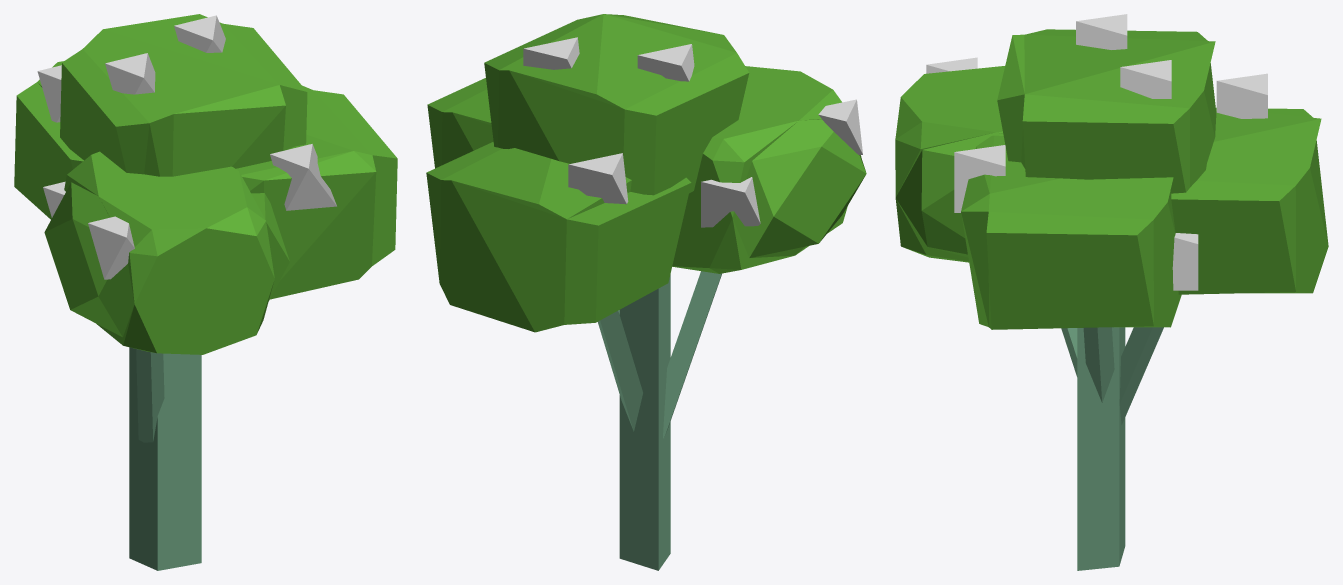
File: クチナシ.fbx
3 renders of one model, left to right at view 1: azimuth 30°, elevation 25°; view 2: azimuth 150°, elevation 25°; view 3: azimuth 270°, elevation 25°, orthographic. The views are drawn at different scales.
Visible parts, largest first — view 1: 立方体.010, 立方体.001, 立方体.007; view 2: 立方体.010, 立方体.001, 立方体.007; view 3: 立方体.010, 立方体.001, 立方体.007.
Part boxes in pixels (x1=…): 立方体.010: x1=14, y1=14, x2=397, y2=354; 立方体.001: x1=129, y1=347, x2=201, y2=570; 立方体.007: x1=37, y1=15, x2=336, y2=279; 立方体.010: x1=426, y1=14, x2=866, y2=332; 立方体.001: x1=598, y1=271, x2=721, y2=570; 立方体.007: x1=523, y1=37, x2=862, y2=227; 立方体.010: x1=895, y1=29, x2=1328, y2=329; 立方体.001: x1=1061, y1=327, x2=1163, y2=570; 立方体.007: x1=926, y1=14, x2=1267, y2=290.
Bounding box in the file's own units: 364 × 515 × 389.
